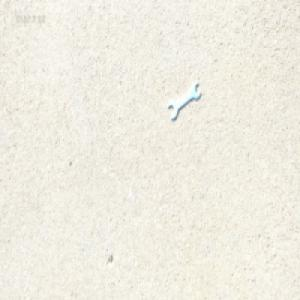Wrench: (167, 82, 199, 120)
